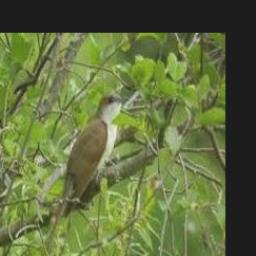Cuckoo: (47, 93, 124, 252)
